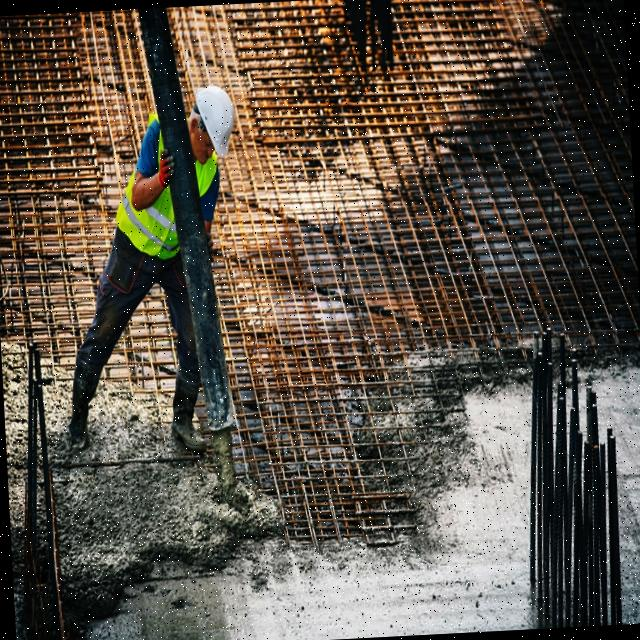Helmet: (195, 85, 237, 163)
Jacket: (115, 151, 175, 264)
